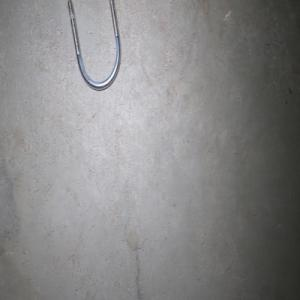ClampPart: (67, 0, 121, 91)
